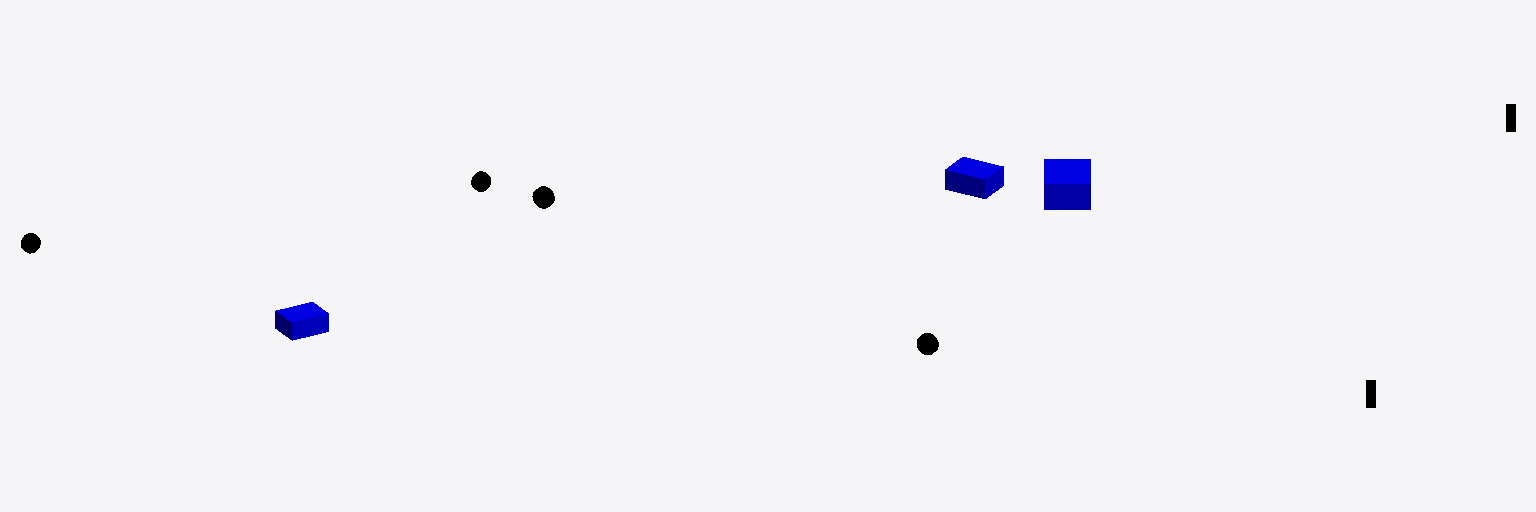
The robot description file, URDF, robot "simple_agv":
<?xml version="1.0"?> 
<!-- ===== Initial differential robot URDF =====-->
<!-- Note: This is only for testing pourpuses of the
CAN communication programs we develop.-->


<robot name="simple_agv">
    
    <!-- === Link declaration === -->

    <!-- Base link -->
    <link name="world_link">
        <pose>0 0 0 0 0 0</pose>
    </link>

    <!-- I'll use chassis as my root link-->    
    <link name="chassis">
        <visual>
            <geometry>
                <box size="0.65 0.5 0.3"/>
            </geometry>
            <origin xyz="0 0 0.3"/>
            <material name="white">
                <color rgba="0 0 1 1"/>
            </material>
        </visual>
    </link>
    <!-- Simple link definition-->
    <link name="wheel_r">
        <visual>
            <geometry>
                <cylinder length="0.10" radius="0.15"/>
            </geometry>
            <origin rpy="1.57 0 0" xyz="0 0.25 0.15"/>
            <material name="black">
                <color rgba="0 0 0 1"/>
            </material>
        </visual>
    </link>

    <link name="wheel_l">
        <visual>
            <geometry>
                <cylinder length="0.10" radius="0.15"/>
            </geometry>
            <!-- Note: The origin is defined in the link frame-->
            <origin rpy="1.57 0 0" xyz="0 -0.25 0.15"/>
            <material name="black">
                <color rgba="0 0 0 1"/>
            </material>
        </visual>
    </link>
    <!--TODO: Add example from xacro-->
    

    <!-- === Joint definition === -->

    <!-- Reference frame -->
    <joint name="world_link_to_chassis" type="fixed">
        <parent link="world_link"/>
        <child link="chassis"/>
    </joint>

    <!-- Wheels -->
    <joint name="joint1" type="revolute">
        <parent link="chassis"/>
        <child link="wheel_r"/>

        <origin xyz="5 3 0"/>
        <!-- Axis rotation-->
        <axis xyz="1 0 0" rpy="0 0 0"/>
        <!-- Joint limits (Newtons) (rad/s)-->
        <limit effort="50" velocity="20"/>
    </joint>
    
    <joint name="joint2" type="revolute">
        <parent link="chassis"/>
        <child link="wheel_l"/>
        
        <origin xyz="-2 5 0"/>
        <axis xyz="1 0 0" rpy="0 0 0"/>
        <limit effort="50" velocity="20"/>
    </joint>
    
    <!-- === Transmission === -->

  </robot>

--- Render facts (derived) ---
3 views of the same robot in one strip: view 1: azimuth 30°, elevation 25°; view 2: azimuth 150°, elevation 25°; view 3: azimuth 270°, elevation 25° (orthographic).
Model simple_agv with 4 links and 3 joints (2 revolute, 1 fixed), rooted at world_link, posed all joints at 0.
Links seen in each view (by area): view 1: chassis; view 2: chassis; view 3: chassis.
Boxes of the visible links, <box> form: chassis: <box>275,302,328,340</box>; chassis: <box>945,157,1003,198</box>; chassis: <box>1044,159,1090,209</box>.
Size in the robot's own frame: 7.3 by 5.05 by 0.45 metres.
Geometry: primitives only (box / cylinder / sphere), no mesh files.
